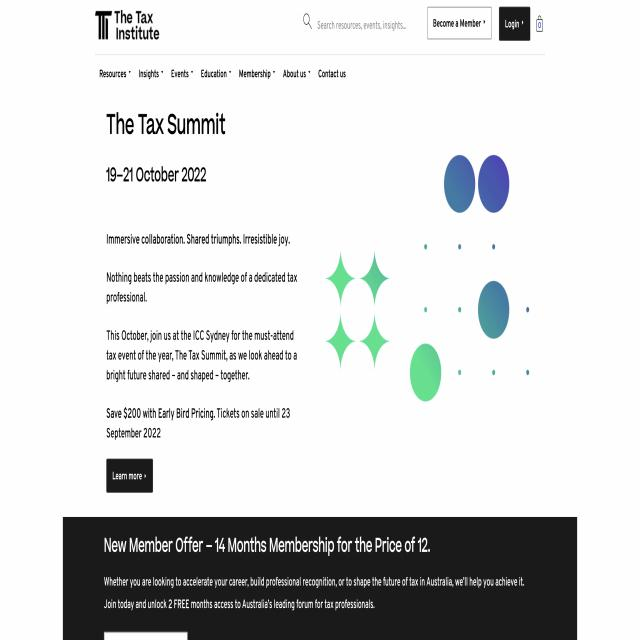Logo: (96, 7, 161, 44)
Navigation: (90, 58, 368, 95)
